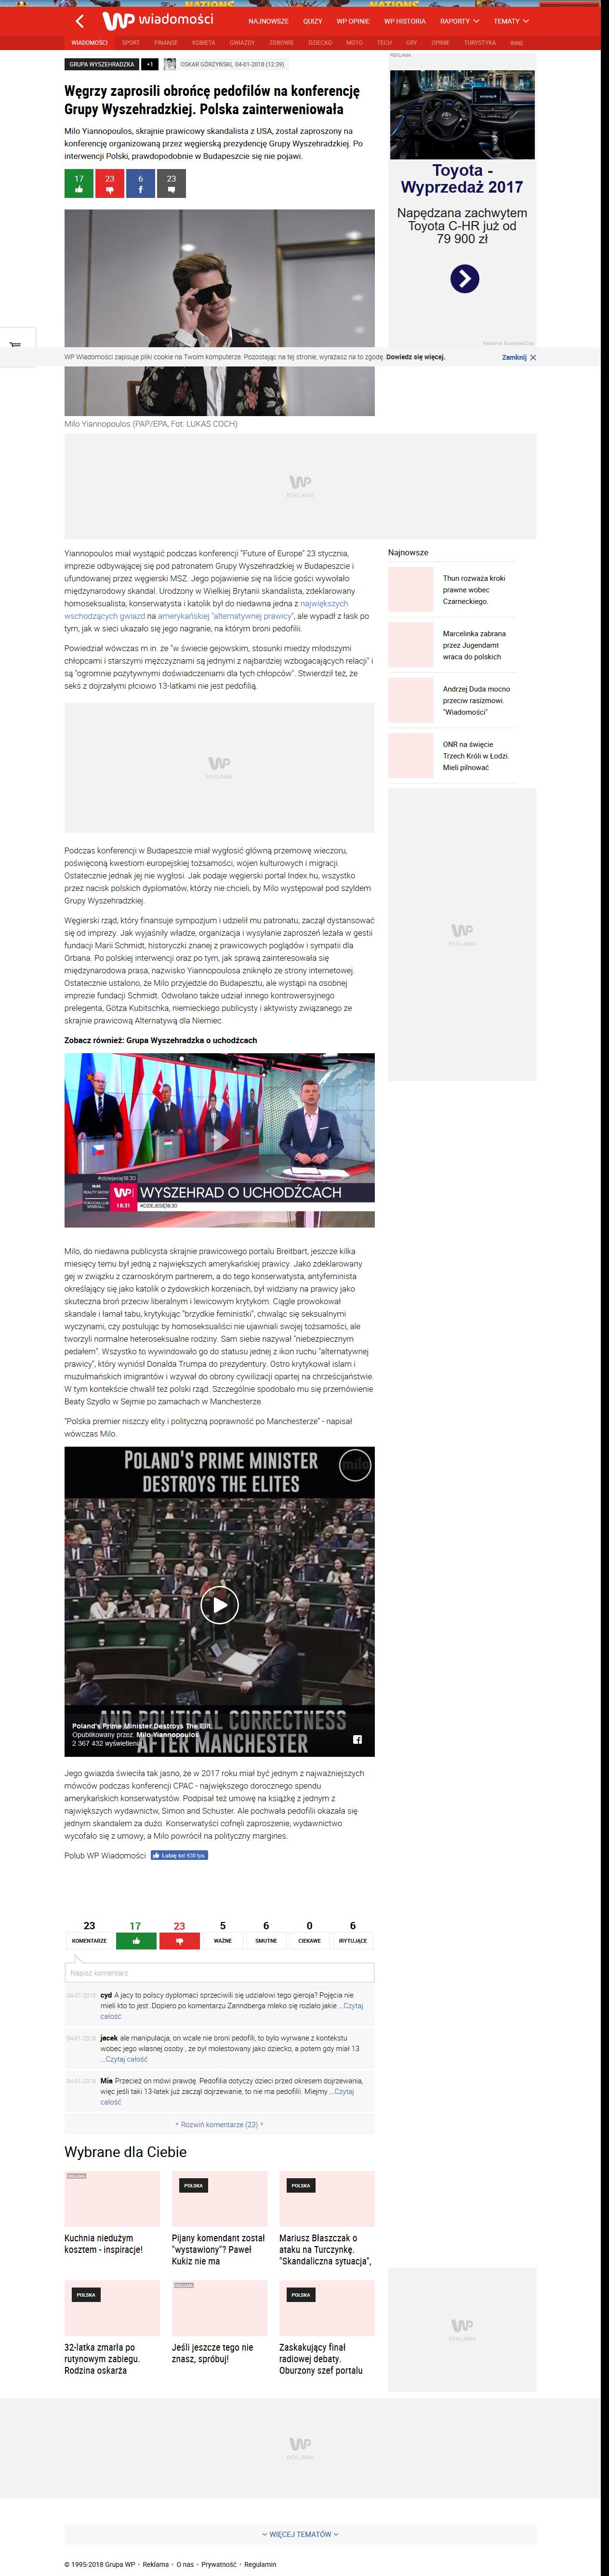title: (64, 84, 361, 117)
